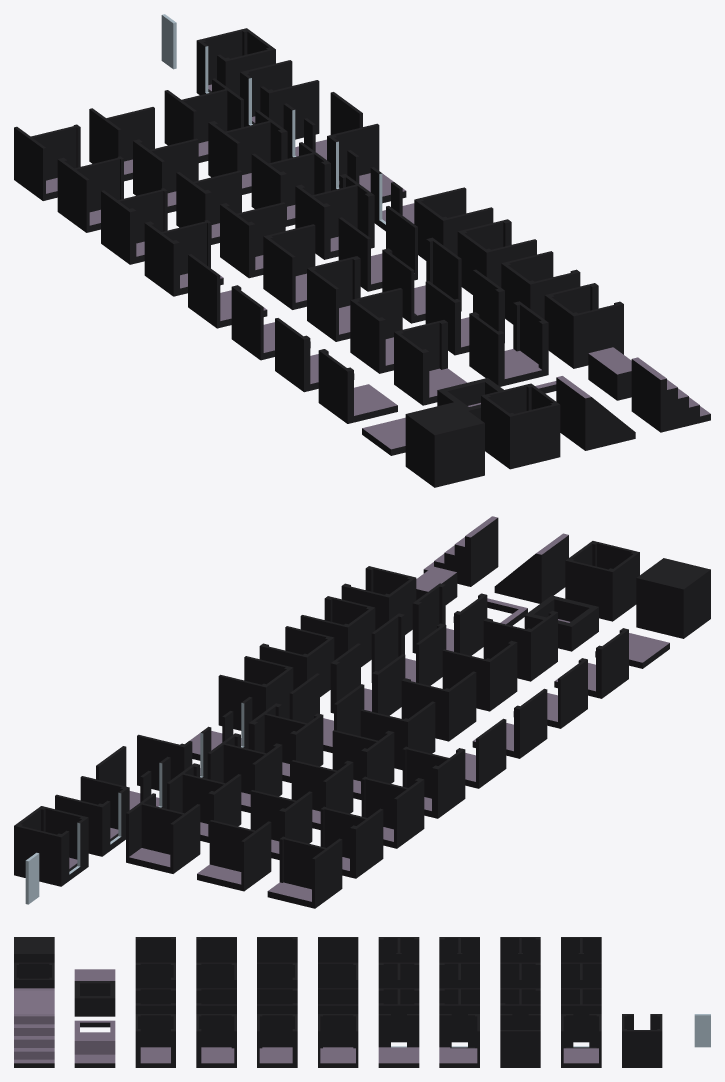
The model's file is HouseReal.glb.
3 views of the same model, one above another, from view 1: azimuth 30°, elevation 25°; view 2: azimuth 150°, elevation 25°; view 3: azimuth 270°, elevation 25° (orthographic). The views are drawn at different scales.
Visible parts, largest first — view 1: Cube 01-col, Cube 19-col, Cube 15-col, Cube 11-col, Cube 07-col, Cube 28-col, Cube 40-col, Cube 29-col, Cube 31-col, Cube 30-col, Cube 20-col, Cube 09-col (+29 smaller); view 2: Cube 01-col, Cube 41-col, Cube 31-col, Cube 19-col, Cube 23-col, Cube 27-col, Cube 18-col, Cube 40-col, Cube 29-col, Cube 28-col, Cube 30-col, Cube 11-col (+28 smaller); view 3: Cube 15-col, Cube 16-col, Cube 17-col, Cube 18-col, Cube 33-col, Cube 39-col, Cube 41-col, Cube 37-col, Cube 40-col, Cube 38-col, Cube 29-col, Cube 31-col (+30 smaller).
Part boxes in pixels (x1,y1,x2,y2): Cube 01-col: (405,402,484,487); Cube 19-col: (481,383,560,469); Cube 15-col: (544,283,623,368); Cube 11-col: (469,301,548,386); Cube 07-col: (394,320,466,405); Cube 28-col: (295,174,374,259); Cube 40-col: (240,60,319,139); Cube 29-col: (251,142,330,226); Cube 31-col: (164,78,243,162); Cube 30-col: (208,110,287,194); Cube 20-col: (144,220,223,296); Cube 09-col: (307,256,360,341); Cube 01-col: (636,558,710,638); Cube 41-col: (14,806,88,886); Cube 31-col: (126,793,200,873); Cube 19-col: (565,541,639,621); Cube 23-col: (267,836,342,908); Cube 27-col: (197,820,271,891); Cube 18-col: (218,656,293,730); Cube 40-col: (55,776,129,856); Cube 29-col: (207,733,282,812); Cube 28-col: (248,703,323,782); Cube 30-col: (167,763,241,842); Cube 11-col: (412,583,487,655); Cube 15-col: (135,1014,175,1067); Cube 16-col: (196,1014,236,1067); Cube 17-col: (257,1014,297,1067); Cube 18-col: (318,1014,358,1067); Cube 33-col: (14,1014,54,1067); Cube 39-col: (500,1014,540,1067); Cube 41-col: (622,1014,662,1067); Cube 37-col: (378,1014,419,1067); Cube 40-col: (561,1014,601,1067); Cube 38-col: (439,1014,479,1067); Cube 29-col: (439,988,479,1042); Cube 31-col: (561,988,601,1042).
Bounding box in the file's own units: 11 × 2 × 34.4.
Materials: 2 (2 with a texture image).
